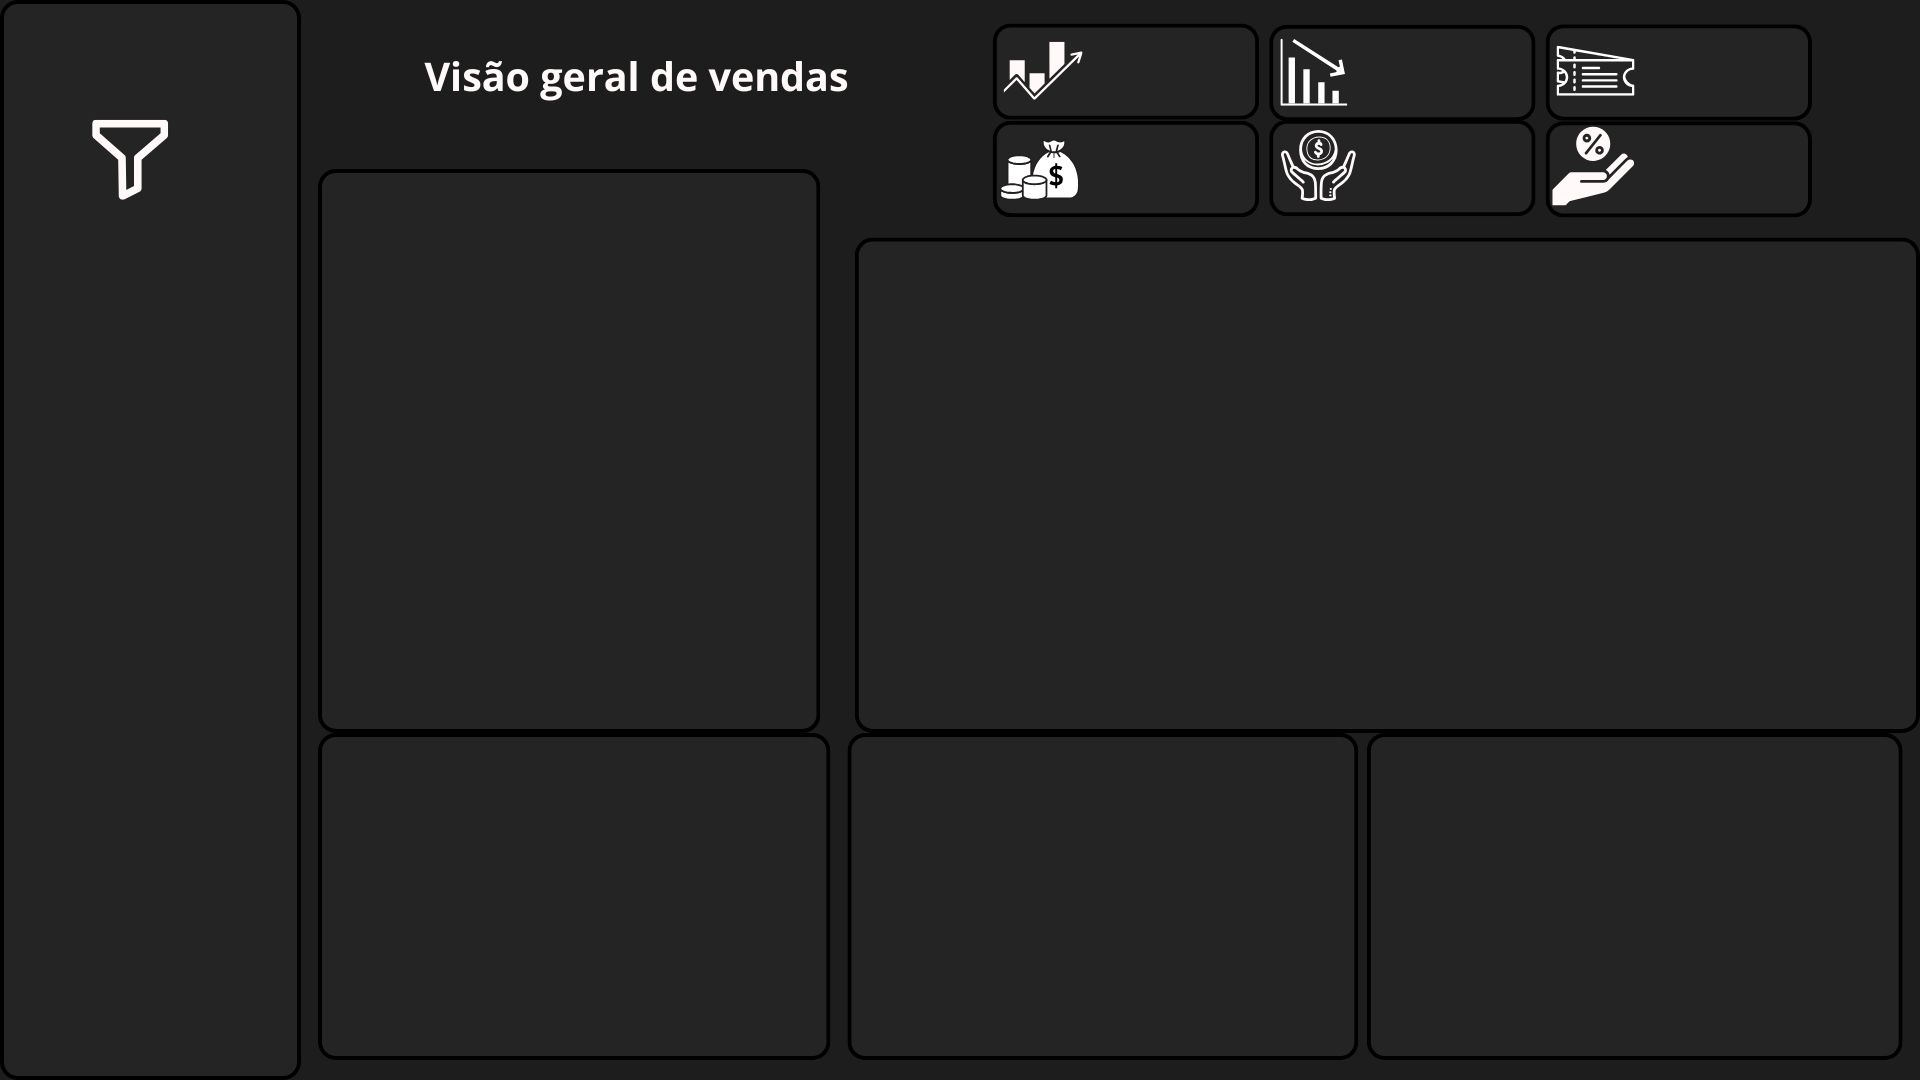

What the dashboard file says about the page in this screenshot:
{"tool":"powerbi","page":{"name":"Página 1","canvas":[1280,720],"ordinal":0},"visuals":[{"type":"card","title":"Faturamento","fields":{"Values":["medidas.lucro_total"]},"box":[724.6,85.6,108,47.7],"z":0},{"type":"card","title":"Qtd. vendida","fields":{"Values":["medidas.Quantidade_vendas"]},"box":[722.7,23.3,109.9,44.7],"z":1000},{"type":"card","title":"Ticket médio","fields":{"Values":["medidas.ticket_medio"]},"box":[1091.3,23.3,105,44.7],"z":2000},{"type":"card","title":"Receita","fields":{"Values":["medidas.lucro_venda"]},"box":[904.6,82.7,116.7,54.5],"z":3000},{"type":"card","title":"Gastos","fields":{"Values":["medidas.gasto_total"]},"box":[895.8,23.3,118.7,51.6],"z":4000},{"type":"card","title":"Lucro %","fields":{"Values":["medidas.lucro_percentual"]},"box":[1091.3,85.6,105,54.5],"z":5000},{"type":"slicer","title":"Mês","fields":{"Values":["tabela_principal.data_transacao.Variation.Hierarquia de datas.Mês"]},"box":[0,297.6,194.5,74.9],"z":6000},{"type":"donutChart","title":"Qtd. vendas por produto","fields":{"Category":["tabela_principal.tipo_produto"],"Y":["medidas.Quantidade_vendas"]},"box":[214,119.6,331.7,165.3],"z":7000},{"type":"donutChart","title":"Lucro por região","fields":{"Category":["tabela_principal.regiao"],"Y":["medidas.lucro_venda"]},"box":[207.2,297.6,338.5,188.7],"z":8000},{"type":"lineChart","title":"Desempenho de Vendas ao Longo do Tempo","fields":{"Y":["medidas.Quantidade_vendas"],"Category":["tabela_principal.data_transacao.Variation.Hierarquia de datas.Ano","tabela_principal.data_transacao.Variation.Hierarquia de datas.Mês"]},"box":[569,322.9,703.2,156.6],"z":9000},{"type":"lineChart","title":"Tendência do faturamento","fields":{"Category":["tabela_principal.data_transacao.Variation.Hierarquia de datas.Ano","tabela_principal.data_transacao.Variation.Hierarquia de datas.Mês"],"Y":["medidas.lucro_venda"]},"box":[569,158.5,695.4,157.6],"z":10000},{"type":"barChart","title":"Produtos mais vendidos","fields":{"Category":["tabela_principal.nome_produto"],"Y":["medidas.Quantidade_vendas"]},"box":[214,493.1,342.4,206.2],"z":11000},{"type":"barChart","title":"Marcas mais vendidas","fields":{"Category":["tabela_principal.marca"],"Y":["medidas.Quantidade_vendas"]},"box":[911.4,493.1,342.4,206.2],"z":12000},{"type":"clusteredBarChart","title":"Lojas que mais vendem","fields":{"Category":["tabela_principal.nome_loja"],"Y":["medidas.Quantidade_vendas","select"]},"box":[569,493.1,342.4,206.2],"z":13000},{"type":"slicer","title":"Ano","fields":{"Values":["tabela_principal.data_transacao.Variation.Hierarquia de datas.Ano"]},"box":[3.9,148.8,187.7,136.2],"z":14000},{"type":"slicer","title":"Região","fields":{"Values":["tabela_principal.regiao"]},"box":[0,411.4,194.5,74.9],"z":15000},{"type":"slicer","title":"Tipo de produto","fields":{"Values":["tabela_principal.tipo_produto"]},"box":[3.9,530.1,194.5,74.9],"z":16000}]}

Visuals, with their boxes in screenshot pixels (x1, y1, x2, y2), scaled from the page's 1280x720 canvas onto the 1920x1080 screenshot:
"Faturamento" card: select_region(1087, 128, 1249, 200)
"Qtd. vendida" card: select_region(1084, 35, 1249, 102)
"Ticket médio" card: select_region(1637, 35, 1794, 102)
"Receita" card: select_region(1357, 124, 1532, 206)
"Gastos" card: select_region(1344, 35, 1522, 112)
"Lucro %" card: select_region(1637, 128, 1794, 210)
"Mês" slicer: select_region(0, 446, 292, 559)
"Qtd. vendas por produto" donutChart: select_region(321, 179, 819, 427)
"Lucro por região" donutChart: select_region(311, 446, 819, 729)
"Desempenho de Vendas ao Longo do Tempo" lineChart: select_region(854, 484, 1908, 719)
"Tendência do faturamento" lineChart: select_region(854, 238, 1897, 474)
"Produtos mais vendidos" barChart: select_region(321, 740, 835, 1049)
"Marcas mais vendidas" barChart: select_region(1367, 740, 1881, 1049)
"Lojas que mais vendem" clusteredBarChart: select_region(854, 740, 1367, 1049)
"Ano" slicer: select_region(6, 223, 287, 428)
"Região" slicer: select_region(0, 617, 292, 729)
"Tipo de produto" slicer: select_region(6, 795, 298, 908)
